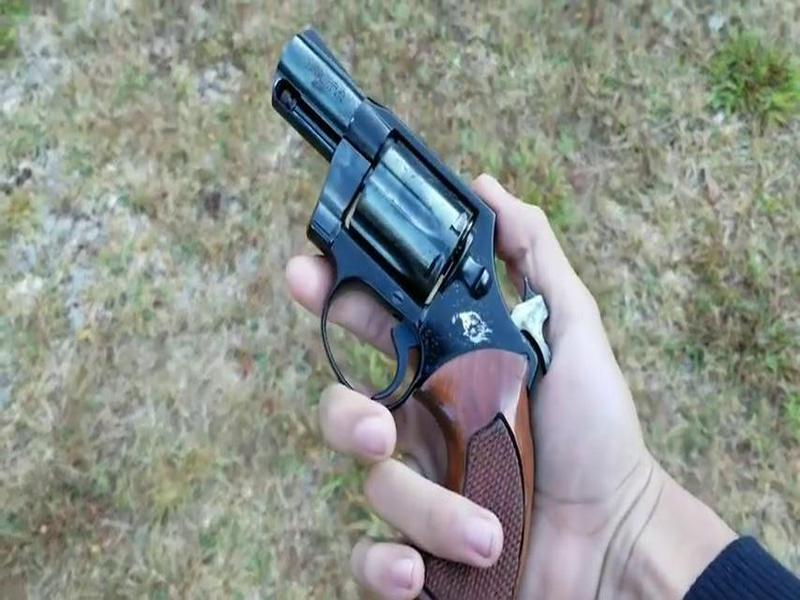Revolver: (233, 19, 553, 597)
